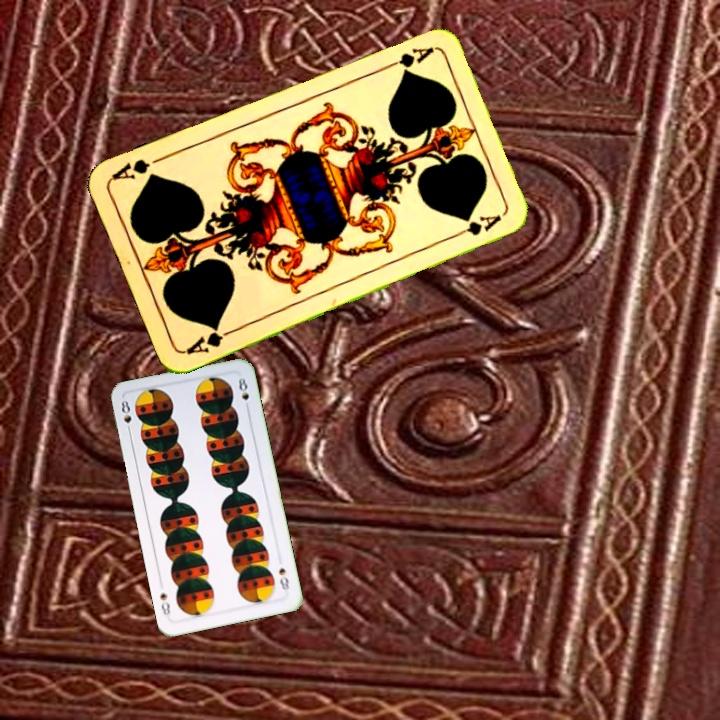GA: (182, 322, 238, 358), (379, 43, 436, 73)
S8: (117, 396, 134, 437), (275, 563, 292, 596)
